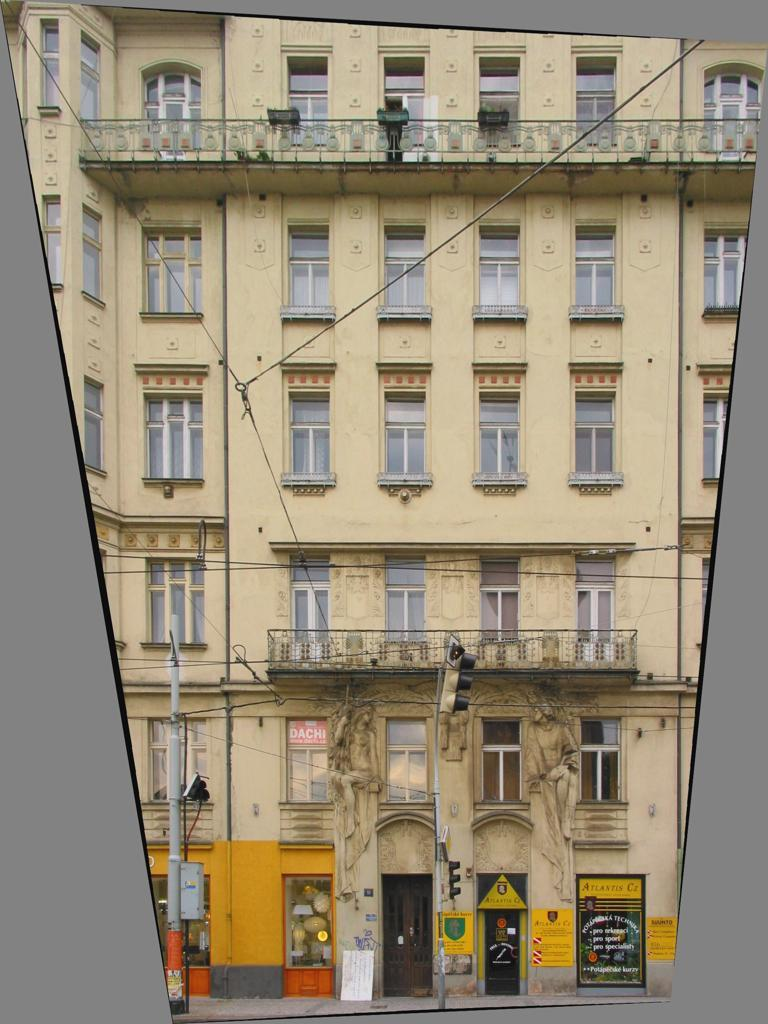window: (290, 556, 332, 684), (141, 227, 202, 313), (576, 555, 617, 682), (148, 719, 209, 804), (704, 225, 765, 310), (144, 558, 204, 644), (705, 63, 765, 149), (144, 393, 204, 478), (142, 64, 202, 149), (287, 225, 329, 316), (479, 57, 522, 145), (289, 391, 330, 482), (480, 226, 521, 316), (386, 718, 429, 803), (287, 56, 328, 145), (480, 392, 521, 481), (385, 225, 425, 316), (286, 718, 329, 802), (385, 392, 426, 480), (576, 392, 617, 480), (577, 57, 618, 145), (482, 717, 523, 804), (581, 716, 622, 803), (480, 555, 521, 642), (576, 226, 617, 313), (385, 556, 426, 642), (384, 57, 424, 145), (81, 30, 101, 129), (83, 208, 103, 300), (40, 19, 58, 107), (44, 196, 62, 284), (86, 377, 103, 470)
